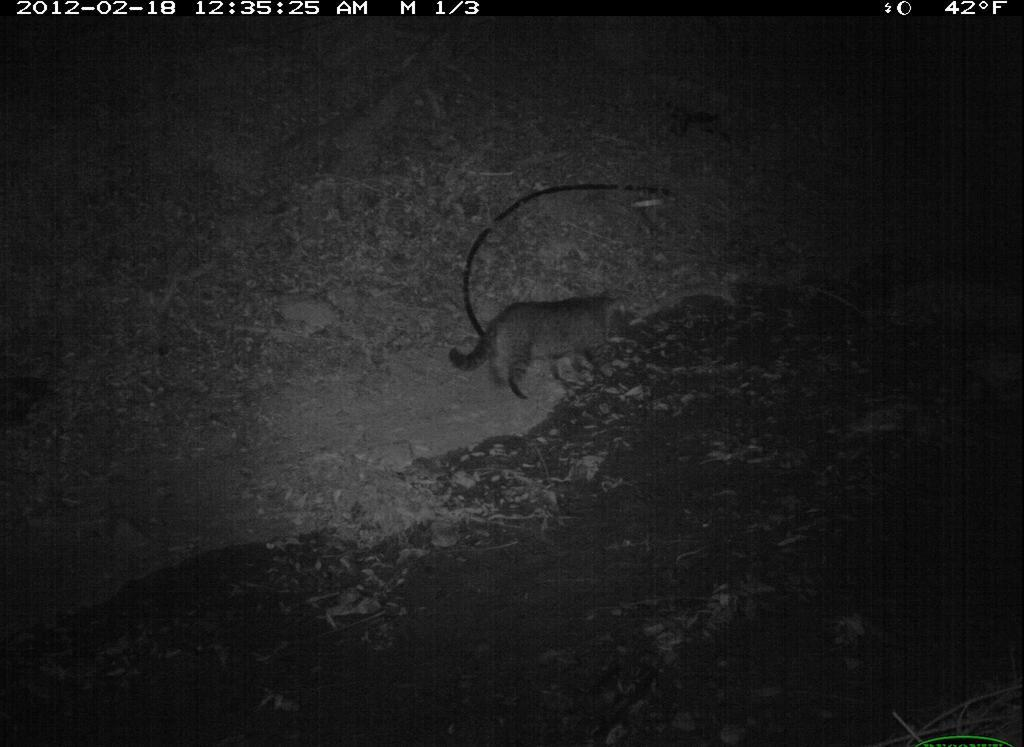cat: (447, 283, 637, 405)
